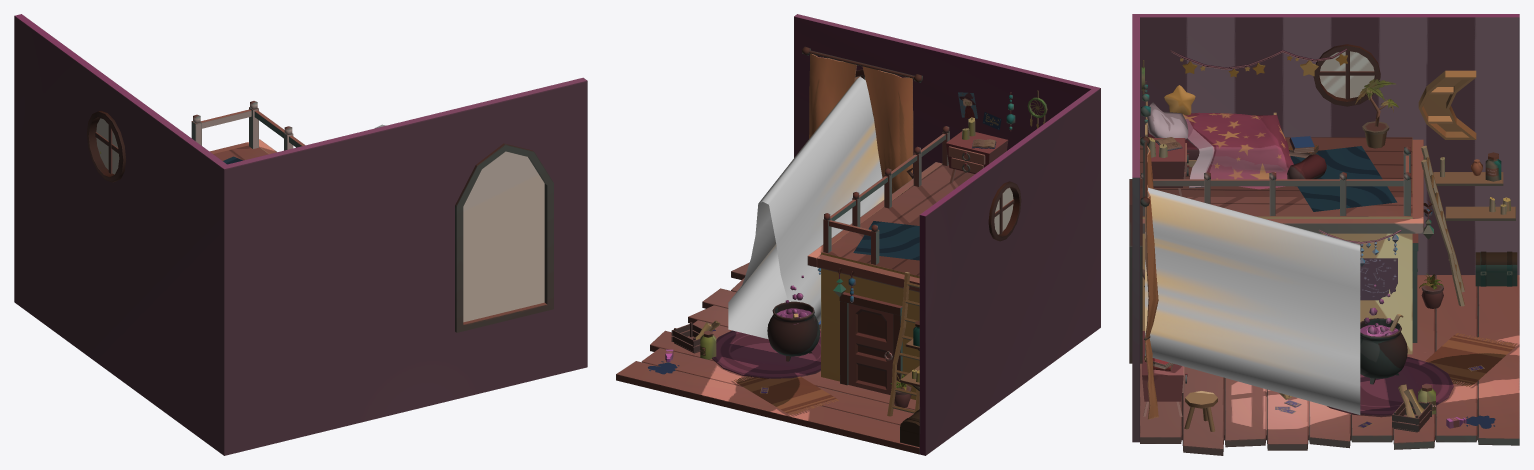
3 views of the same model, side by side, from view 1: azimuth 30°, elevation 25°; view 2: azimuth 150°, elevation 25°; view 3: azimuth 270°, elevation 25° (orthographic). The views are drawn at different scales.
Parts seen in each view (by area): view 1: Murs_Piece_0, Mur_interieur_Piece_0; view 2: Murs_Piece_0, Mur_interieur_Piece_0, Rayon_light_Rayons_0, Sol_Piece_0, Decorations_Deco_0, Meubles_Meubless_0, Rideaux_Piece_0; view 3: Murs_Piece_0, Rayon_light_Rayons_0, Sol_Piece_0, Meubles_Meubless_0, Decorations_Deco_0, Mur_interieur_Piece_0, Rideaux_Piece_0.
Boxes of the visible parts, x1,y1,x2,y2 form: Murs_Piece_0: [14, 14, 587, 455]; Mur_interieur_Piece_0: [191, 101, 305, 160]; Murs_Piece_0: [794, 14, 1100, 455]; Mur_interieur_Piece_0: [807, 126, 974, 399]; Rayon_light_Rayons_0: [728, 76, 884, 339]; Sol_Piece_0: [616, 262, 919, 454]; Decorations_Deco_0: [648, 90, 1047, 415]; Meubles_Meubless_0: [671, 131, 1008, 447]; Rideaux_Piece_0: [802, 46, 922, 193]; Murs_Piece_0: [1129, 14, 1519, 442]; Rayon_light_Rayons_0: [1145, 187, 1360, 414]; Sol_Piece_0: [1140, 275, 1519, 455]; Meubles_Meubless_0: [1142, 70, 1517, 432]; Decorations_Deco_0: [1140, 49, 1516, 428]; Mur_interieur_Piece_0: [1140, 137, 1423, 354]; Rideaux_Piece_0: [1140, 136, 1158, 419].
Size of the model in its own units: 8367 by 5769 by 7713.
